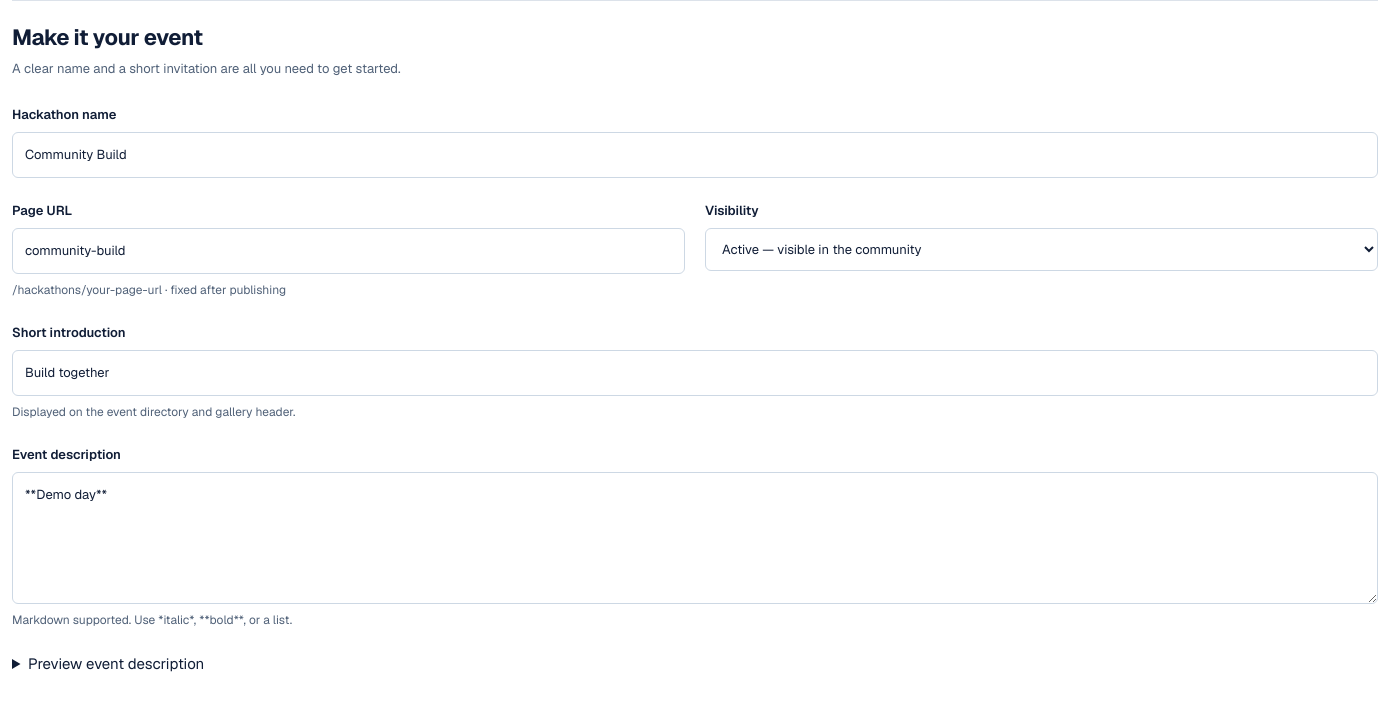
Test case: event settings › previews Markdown, edits dated schedule entries and tracks, and submits only on Save
Earlier steps of the test are not shown.
Later steps or results of the test are not shown.
Click the heading "Preview event description" at [116, 663], box [28,654,204,673]
(page scrolled)
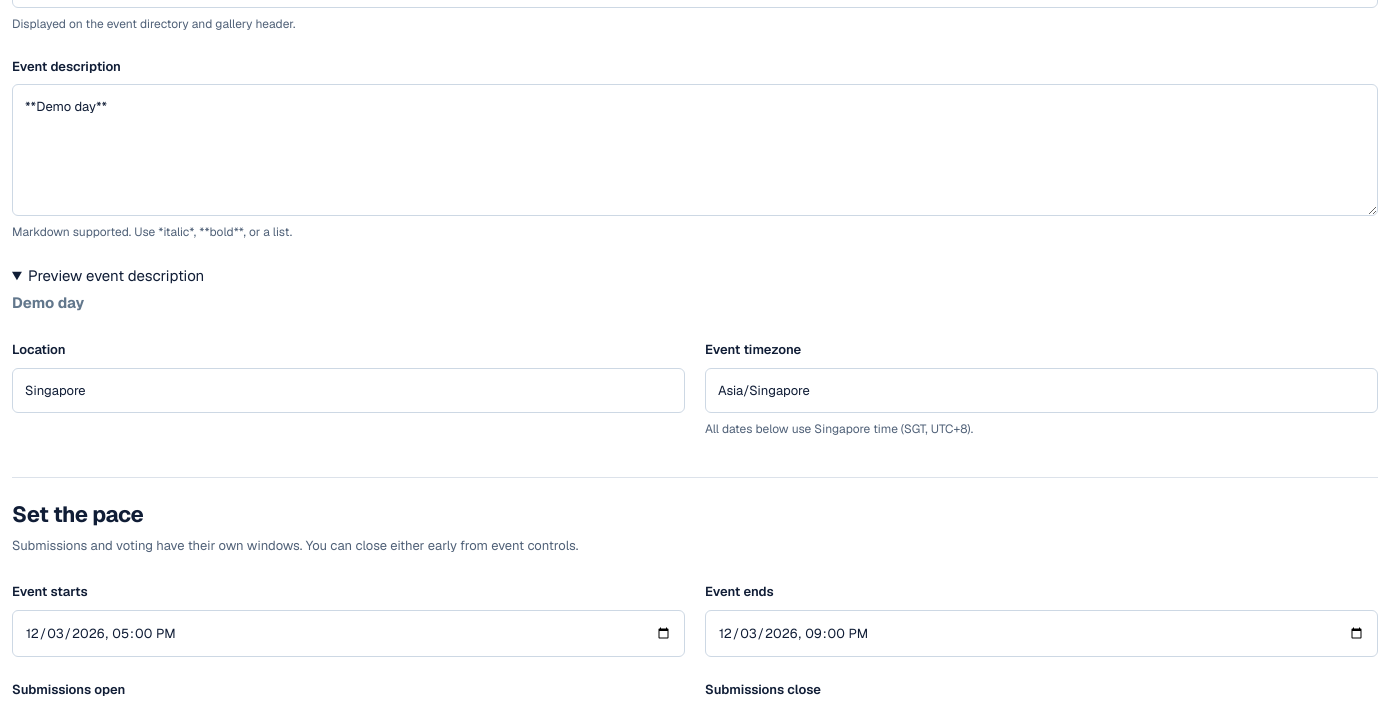
Replace the text in the field labelled "Event timezone" with "UTC" at [1042, 390], box [705,368,1378,413]
(page scrolled)
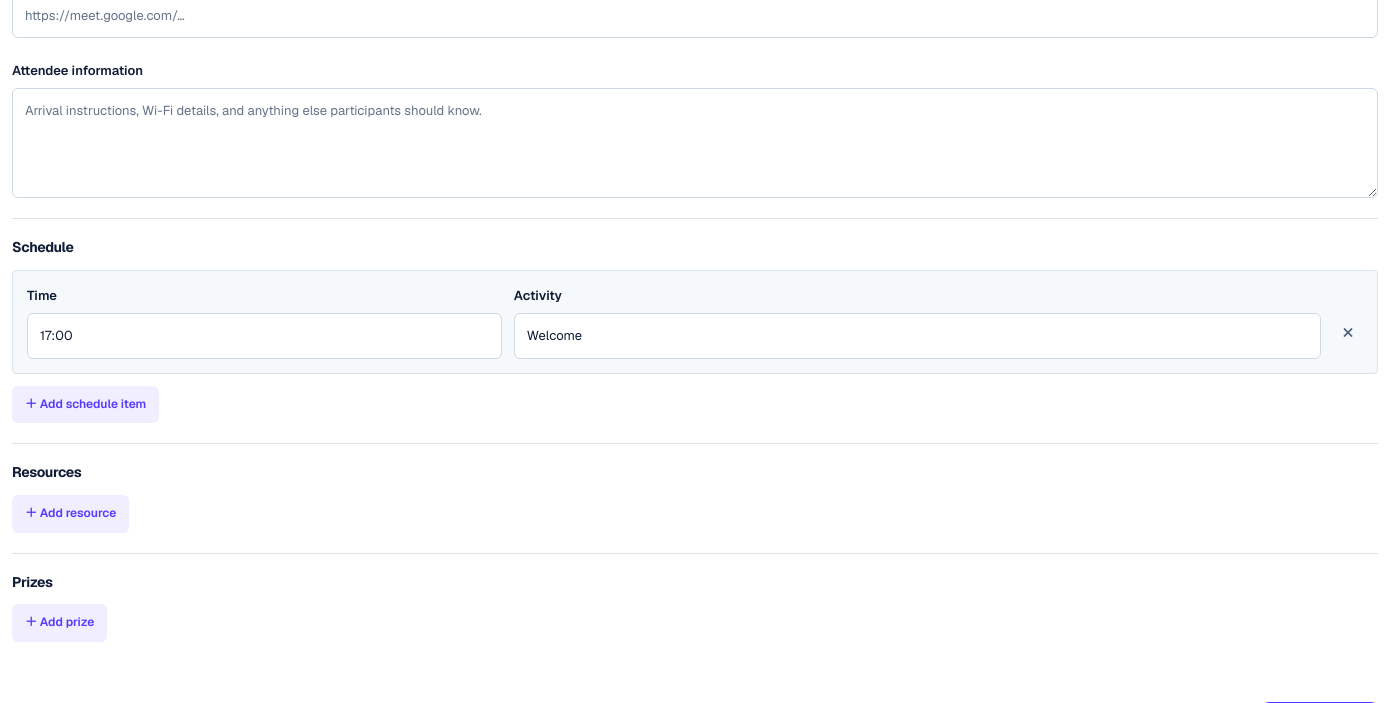
Click the button "＋ Add schedule item" at [86, 404], box [12,386,159,423]
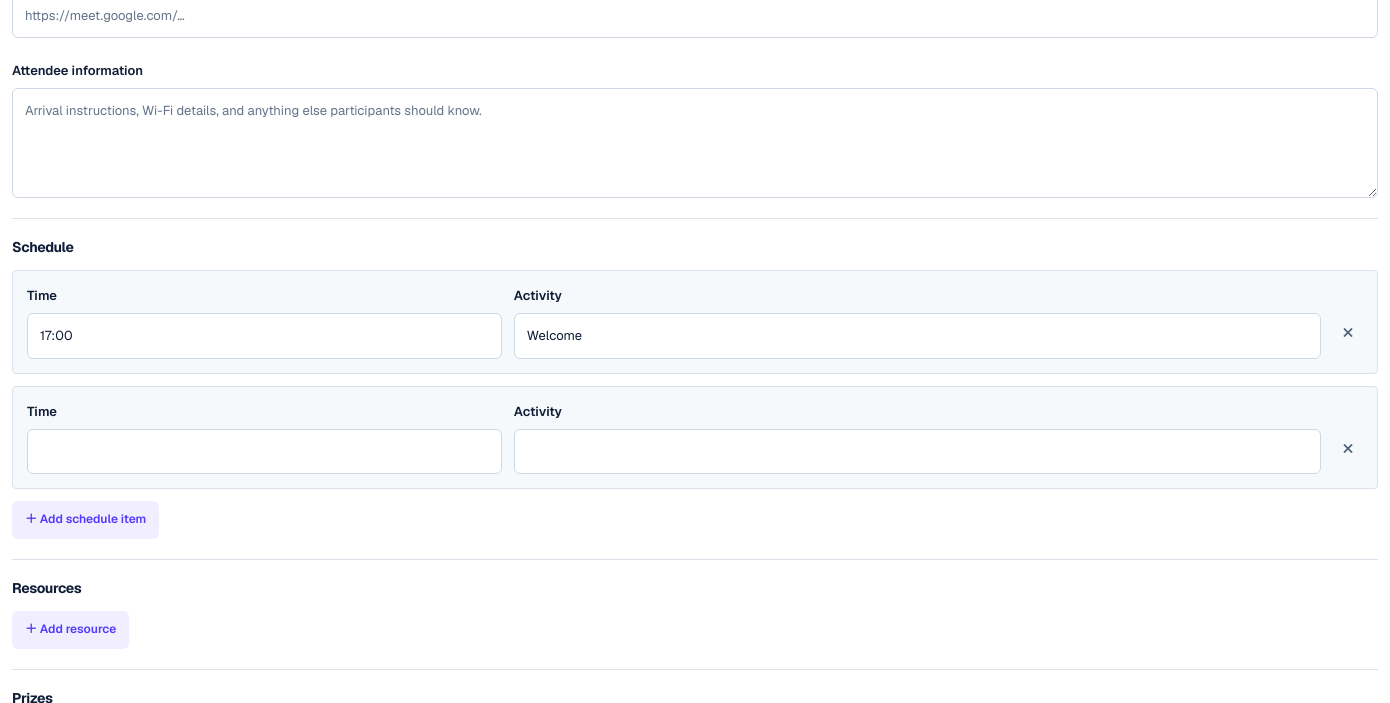
Type "18:30" into the field named "Time 2" at [264, 452], box [27,429,502,474]
Type "Demos" into the field named "Activity 2" at [917, 452], box [514,429,1321,474]
Click the button named "Remove schedule item 1" at [1348, 331], box [1333,308,1363,354]
(page scrolled)
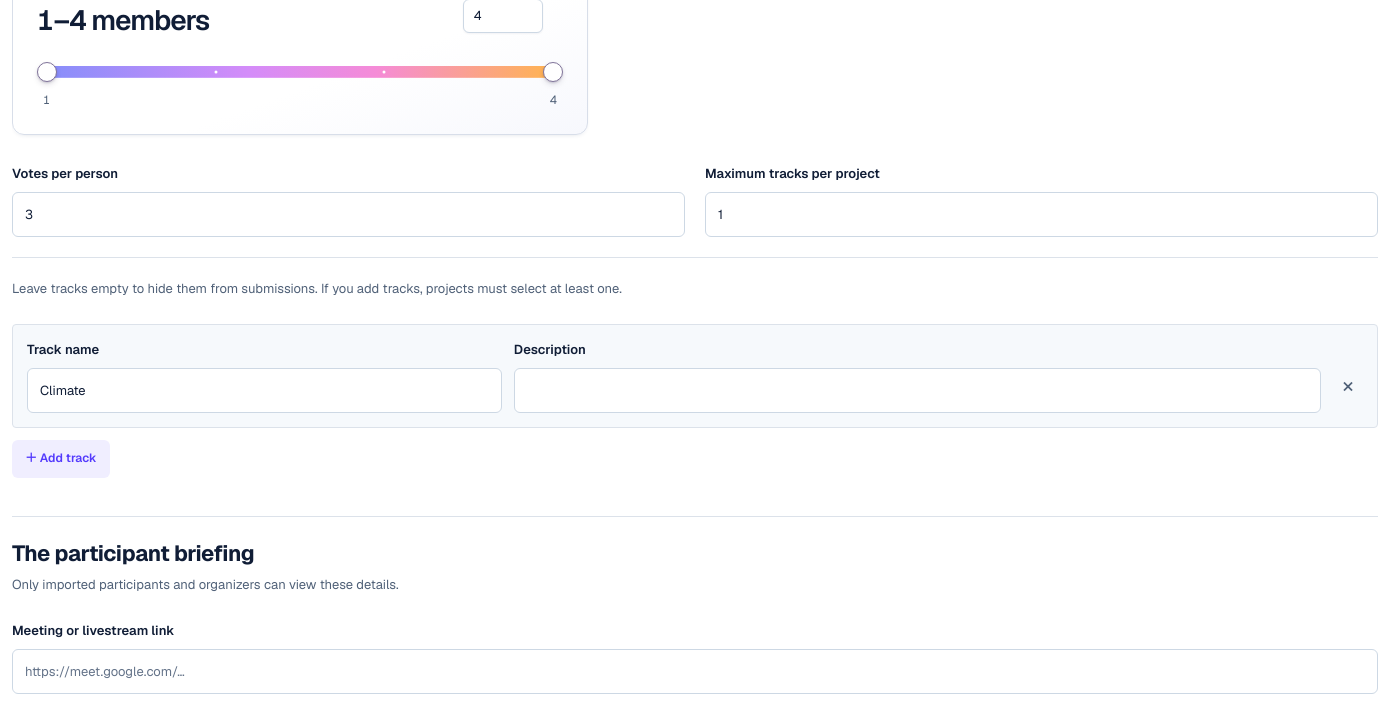
Replace the text in the field named "Track name 1" with "Clean energy" at [264, 390], box [27,368,502,413]
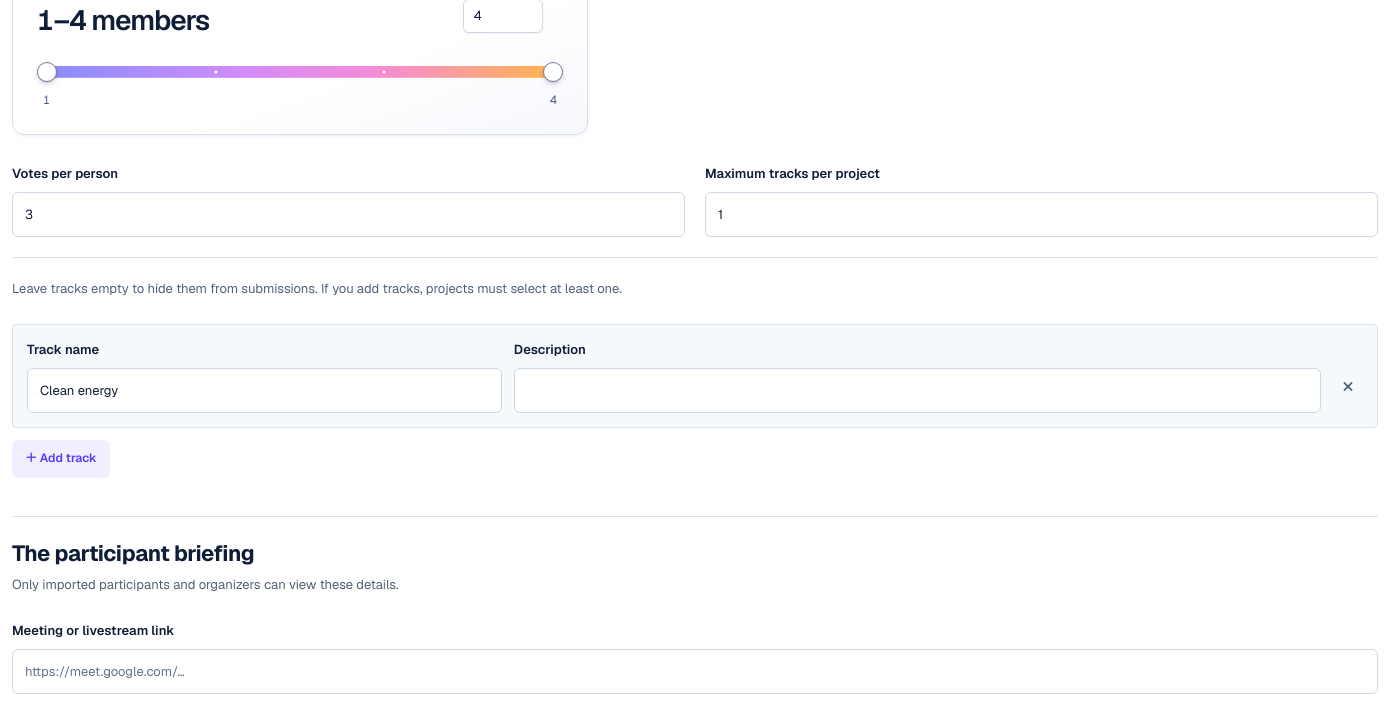
Replace the text in the number field labelled "Slider maximum" with "3" at [503, 16], box [463,0,543,33]
(page scrolled)
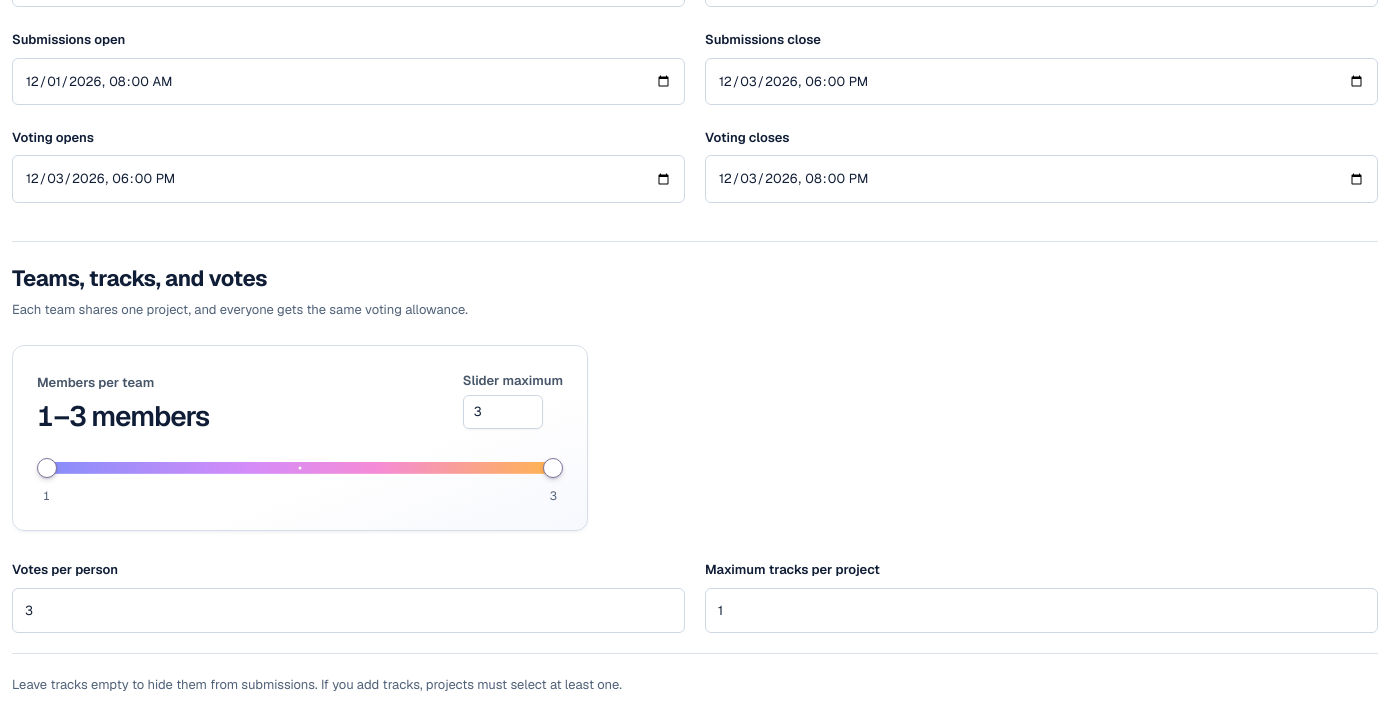
expect the text "1–3 members" is shown: met, box [37,399,209,434]
